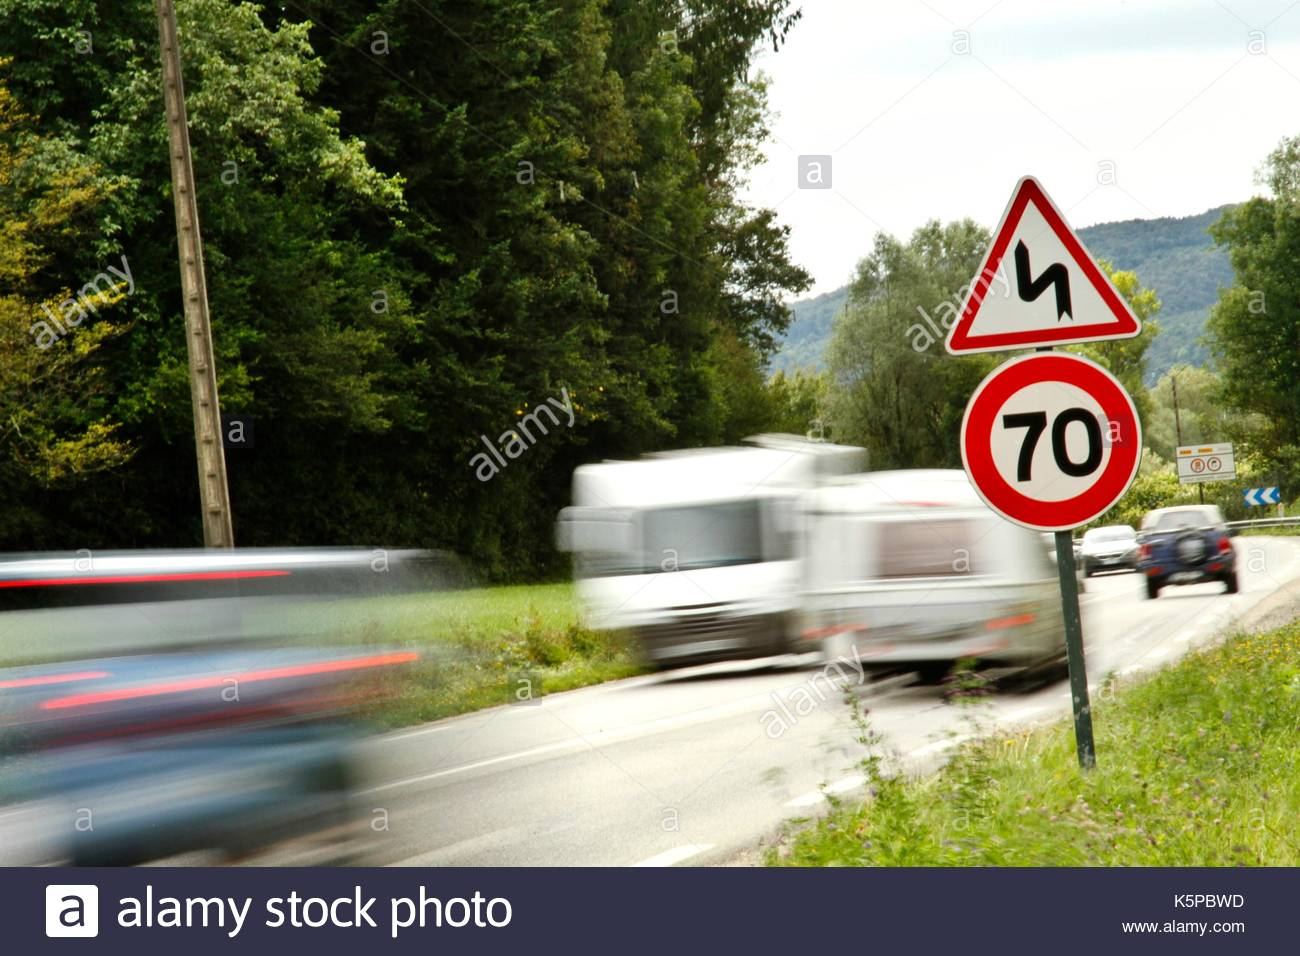speed_limit_70: (958, 355, 1137, 532)
